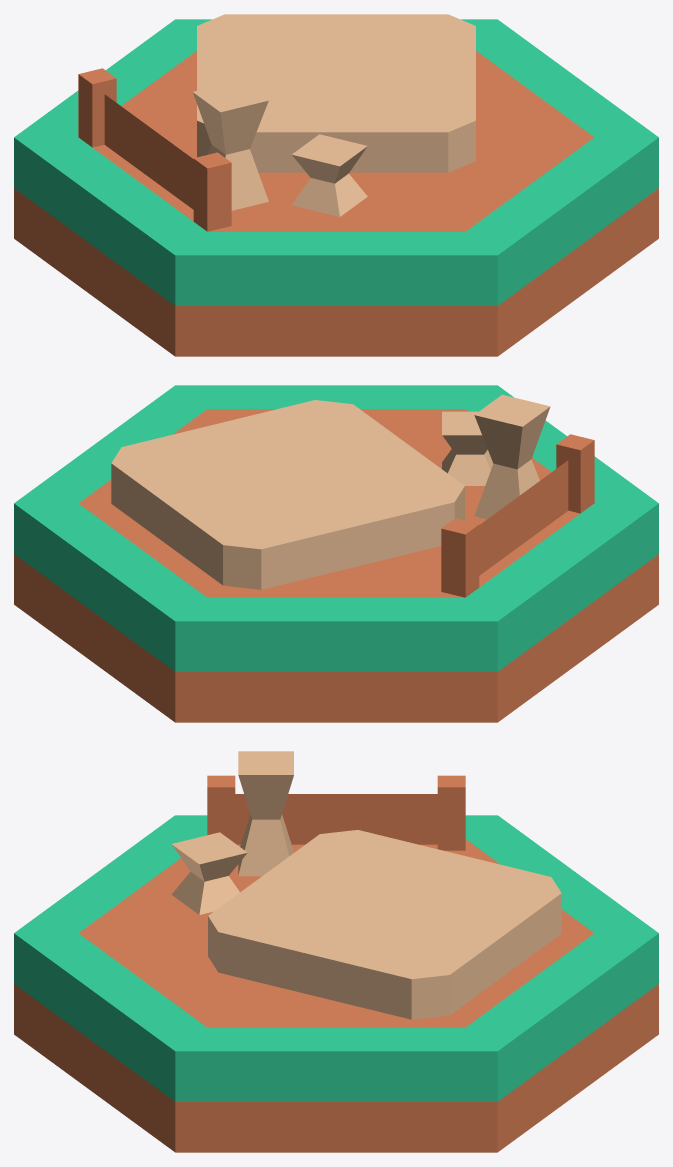
The model's file is building_farm.dae.
The picture shows the model from 3 angles, top to bottom: view 1: azimuth 30°, elevation 25°; view 2: azimuth 150°, elevation 25°; view 3: azimuth 270°, elevation 25°; orthographic projection.
Parts seen in each view (by area): view 1: building_farm, grain, grainBundle (×2), fence; view 2: building_farm, grain, fence, grainBundle (×2); view 3: building_farm, grain, fence, grainBundle (×2).
Part boxes in pixels (x1=…): building_farm: x1=14, y1=19, x2=658, y2=356; grain: x1=197, y1=14, x2=475, y2=172; grainBundle (×2): x1=193, y1=80, x2=367, y2=216; fence: x1=78, y1=68, x2=231, y2=231; building_farm: x1=14, y1=385, x2=658, y2=722; grain: x1=111, y1=400, x2=464, y2=589; fence: x1=441, y1=434, x2=594, y2=597; grainBundle (×2): x1=442, y1=394, x2=550, y2=519; building_farm: x1=14, y1=815, x2=658, y2=1152; grain: x1=208, y1=830, x2=561, y2=1019; fence: x1=207, y1=775, x2=465, y2=850; grainBundle (×2): x1=171, y1=751, x2=293, y2=914.
Bounding box in the file's own units: 1 × 0.4 × 1.15.
